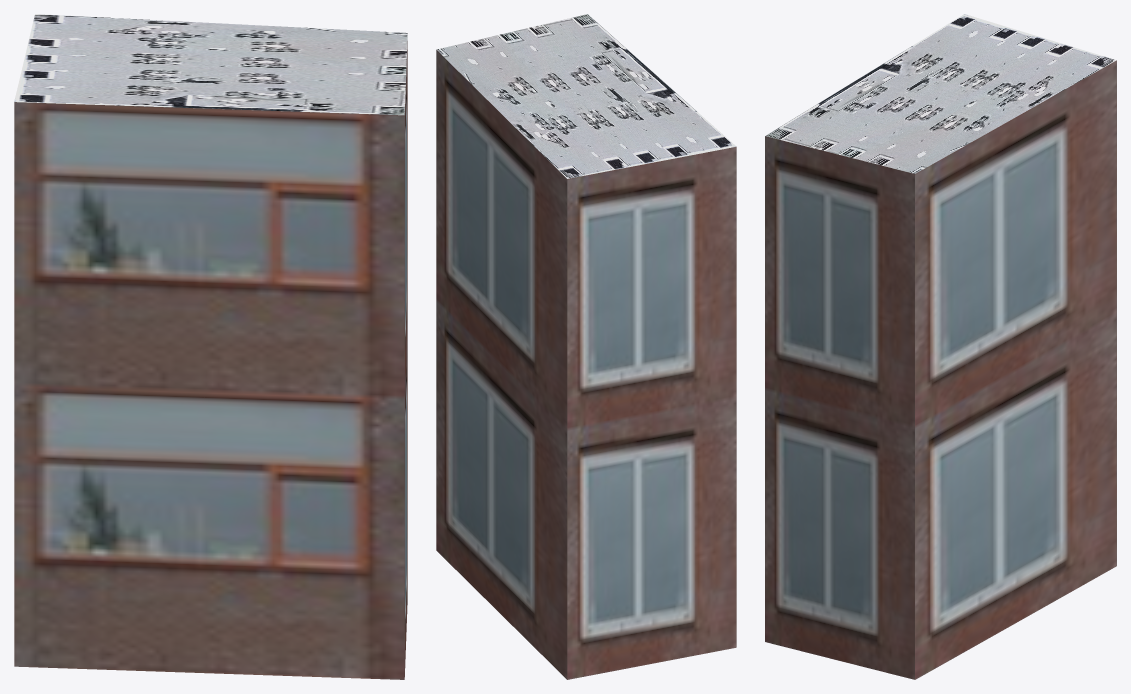
The model's file is ResTex__3670.fbx.
3 renders of one model, left to right at view 1: azimuth 30°, elevation 25°; view 2: azimuth 150°, elevation 25°; view 3: azimuth 270°, elevation 25°, orthographic. The views are drawn at different scales.
Visible parts, largest first — view 1: CityEngineMaterial_19_m, CityEngineMaterial_15_m; view 2: CityEngineMaterial_19_m, CityEngineMaterial_15_m; view 3: CityEngineMaterial_19_m, CityEngineMaterial_15_m.
Boxes of the visible parts, x1,y1,x2,y2 form: CityEngineMaterial_19_m: (14, 41, 407, 679); CityEngineMaterial_15_m: (14, 14, 407, 115); CityEngineMaterial_19_m: (436, 50, 736, 679); CityEngineMaterial_15_m: (436, 14, 735, 178); CityEngineMaterial_19_m: (765, 60, 1116, 679); CityEngineMaterial_15_m: (765, 14, 1116, 173).
Bounding box in the file's own units: 4.07 × 6 × 3.78.
Materials: 2 (2 with a texture image).
